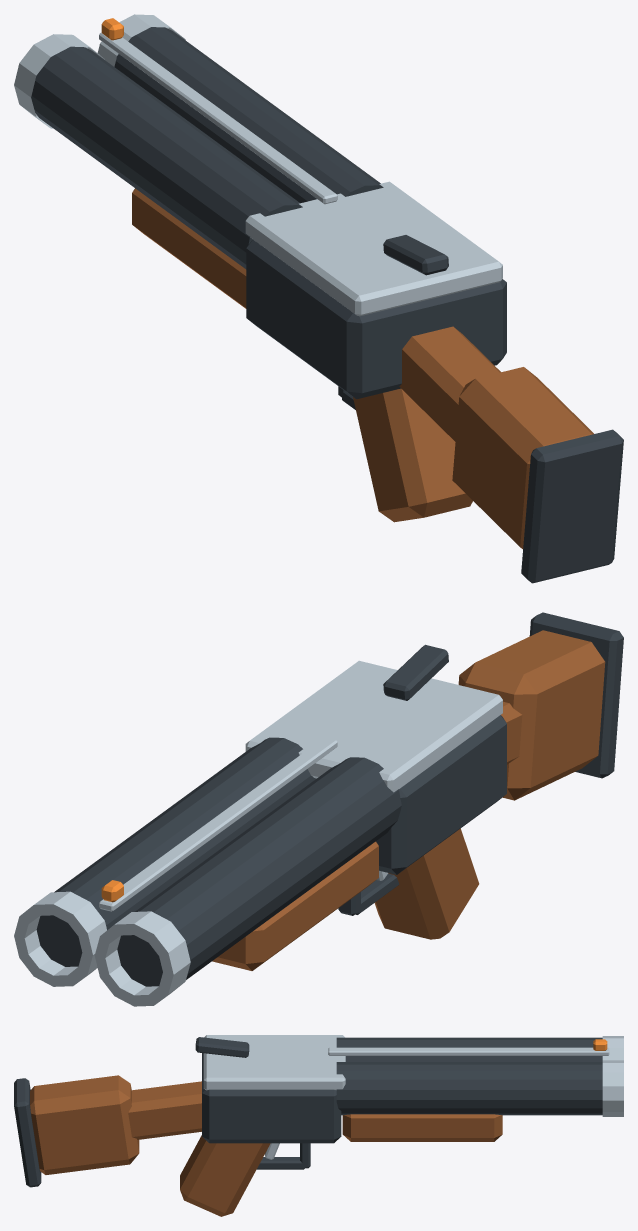
File: Pistol.fbx
3 renders of one model, top to bottom at view 1: azimuth 30°, elevation 25°; view 2: azimuth 150°, elevation 25°; view 3: azimuth 270°, elevation 25°, orthographic. The views are drawn at different scales.
Visible parts, largest first — view 1: PistolMesh; view 2: PistolMesh; view 3: PistolMesh.
Boxes of the visible parts, <box> form: PistolMesh: <box>14,14,623,583</box>; PistolMesh: <box>14,612,623,1006</box>; PistolMesh: <box>14,1035,623,1216</box>.
Bounding box in the file's own units: 19.5 × 31.67 × 103.
